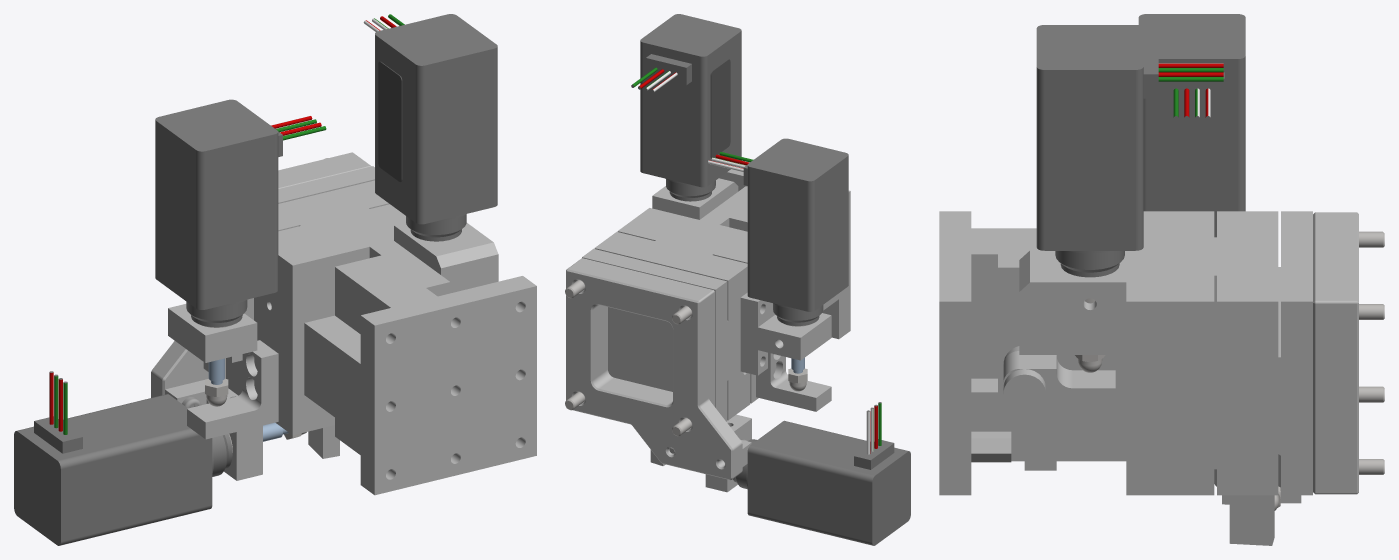
Rendered from ASS_-_3010_-_AUTXYZSTG_-_V04.glb.
3 renders of one model, left to right at view 1: azimuth 30°, elevation 25°; view 2: azimuth 150°, elevation 25°; view 3: azimuth 270°, elevation 25°, orthographic. The views are drawn at different scales.
Visible parts, largest first — view 1: BUY - Stepping motor - 20K-2AB-12.7 - YPF Motors:1 (×3), BUY - XYZ linear table - LD40-LM --- Z table:1, BUY - XYZ linear table - LD40-LM --- Z base:1, BUY - XYZ linear table - LD40-LM --- bracket:2, BUY - XYZ linear table - LD40-LM --- XY plate:1, BUY - XYZ linear table - LD40-LM --- Y plate:1, PRT - 1042 - BASXYZSTG - V04:1, BUY - XYZ linear table - LD40-LM --- motor holder:2, PRT - 5005 - STKCAUHNDCRU25x10:1, BUY - XYZ linear table - LD40-LM --- motor holder:1, BUY - XYZ linear table - LD40-LM --- base:1, BUY - XYZ linear table - LD40-LM --- bracket:1; view 2: BUY - Stepping motor - 20K-2AB-12.7 - YPF Motors:1 (×3), PRT - 1042 - BASXYZSTG - V04:1, BUY - XYZ linear table - LD40-LM --- base:1, BUY - XYZ linear table - LD40-LM --- XY plate:1, BUY - XYZ linear table - LD40-LM --- motor holder:2, BUY - XYZ linear table - LD40-LM --- Z base:1, BUY - XYZ linear table - LD40-LM --- Y plate:1, BUY - XYZ linear table - LD40-LM --- bracket:2, BUY - XYZ linear table - LD40-LM --- Z table:1, PRT - 5005 - STKCAUHNDCRU25x10:1, BUY - XYZ linear table - LD40-LM --- motor holder:1; view 3: BUY - Stepping motor - 20K-2AB-12.7 - YPF Motors:1 (×2), BUY - XYZ linear table - LD40-LM --- Z base:1, BUY - XYZ linear table - LD40-LM --- XY plate:1, BUY - XYZ linear table - LD40-LM --- Z table:1, BUY - XYZ linear table - LD40-LM --- Y plate:1, PRT - 1042 - BASXYZSTG - V04:1, BUY - XYZ linear table - LD40-LM --- base:1, BUY - XYZ linear table - LD40-LM --- converter:1, BUY - XYZ linear table - LD40-LM --- bracket:1.
Boxes of the visible parts, bbox=[...] form: BUY - Stepping motor - 20K-2AB-12.7 - YPF Motors:1 (×3): bbox=[14, 14, 497, 545]; BUY - XYZ linear table - LD40-LM --- Z table:1: bbox=[304, 255, 536, 495]; BUY - XYZ linear table - LD40-LM --- Z base:1: bbox=[281, 222, 498, 435]; BUY - XYZ linear table - LD40-LM --- bracket:2: bbox=[187, 340, 278, 439]; BUY - XYZ linear table - LD40-LM --- XY plate:1: bbox=[226, 180, 389, 395]; BUY - XYZ linear table - LD40-LM --- Y plate:1: bbox=[254, 204, 405, 426]; PRT - 1042 - BASXYZSTG - V04:1: bbox=[151, 152, 371, 397]; BUY - XYZ linear table - LD40-LM --- motor holder:2: bbox=[168, 298, 257, 362]; PRT - 5005 - STKCAUHNDCRU25x10:1: bbox=[378, 61, 402, 181]; BUY - XYZ linear table - LD40-LM --- motor holder:1: bbox=[165, 380, 262, 480]; BUY - XYZ linear table - LD40-LM --- base:1: bbox=[225, 166, 374, 378]; BUY - XYZ linear table - LD40-LM --- bracket:1: bbox=[308, 425, 339, 458]; BUY - Stepping motor - 20K-2AB-12.7 - YPF Motors:1 (×3): bbox=[631, 14, 910, 545]; PRT - 1042 - BASXYZSTG - V04:1: bbox=[566, 258, 742, 480]; BUY - XYZ linear table - LD40-LM --- base:1: bbox=[582, 248, 738, 421]; BUY - XYZ linear table - LD40-LM --- XY plate:1: bbox=[594, 232, 750, 420]; BUY - XYZ linear table - LD40-LM --- motor holder:2: bbox=[740, 292, 831, 375]; BUY - XYZ linear table - LD40-LM --- Z base:1: bbox=[640, 178, 774, 315]; BUY - XYZ linear table - LD40-LM --- Y plate:1: bbox=[617, 215, 773, 403]; BUY - XYZ linear table - LD40-LM --- bracket:2: bbox=[756, 352, 831, 411]; BUY - XYZ linear table - LD40-LM --- Z table:1: bbox=[719, 166, 850, 339]; PRT - 5005 - STKCAUHNDCRU25x10:1: bbox=[710, 59, 730, 158]; BUY - XYZ linear table - LD40-LM --- motor holder:1: bbox=[705, 414, 751, 492]; BUY - Stepping motor - 20K-2AB-12.7 - YPF Motors:1 (×2): bbox=[1036, 14, 1245, 277]; BUY - XYZ linear table - LD40-LM --- Z base:1: bbox=[998, 211, 1152, 495]; BUY - XYZ linear table - LD40-LM --- XY plate:1: bbox=[1185, 211, 1278, 495]; BUY - XYZ linear table - LD40-LM --- Z table:1: bbox=[939, 211, 1039, 495]; BUY - XYZ linear table - LD40-LM --- Y plate:1: bbox=[1153, 211, 1214, 495]; PRT - 1042 - BASXYZSTG - V04:1: bbox=[1313, 212, 1358, 494]; BUY - XYZ linear table - LD40-LM --- base:1: bbox=[1249, 211, 1312, 495]; BUY - XYZ linear table - LD40-LM --- converter:1: bbox=[1003, 346, 1115, 470]; BUY - XYZ linear table - LD40-LM --- bracket:1: bbox=[1222, 495, 1274, 545].
Size of the model in its own units: 89.2 by 111 by 83.4.
